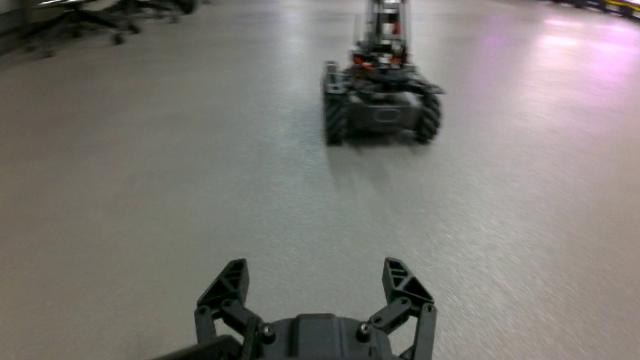robot: (321, 0, 448, 143)
